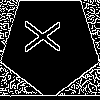X: (25, 19, 68, 53)
